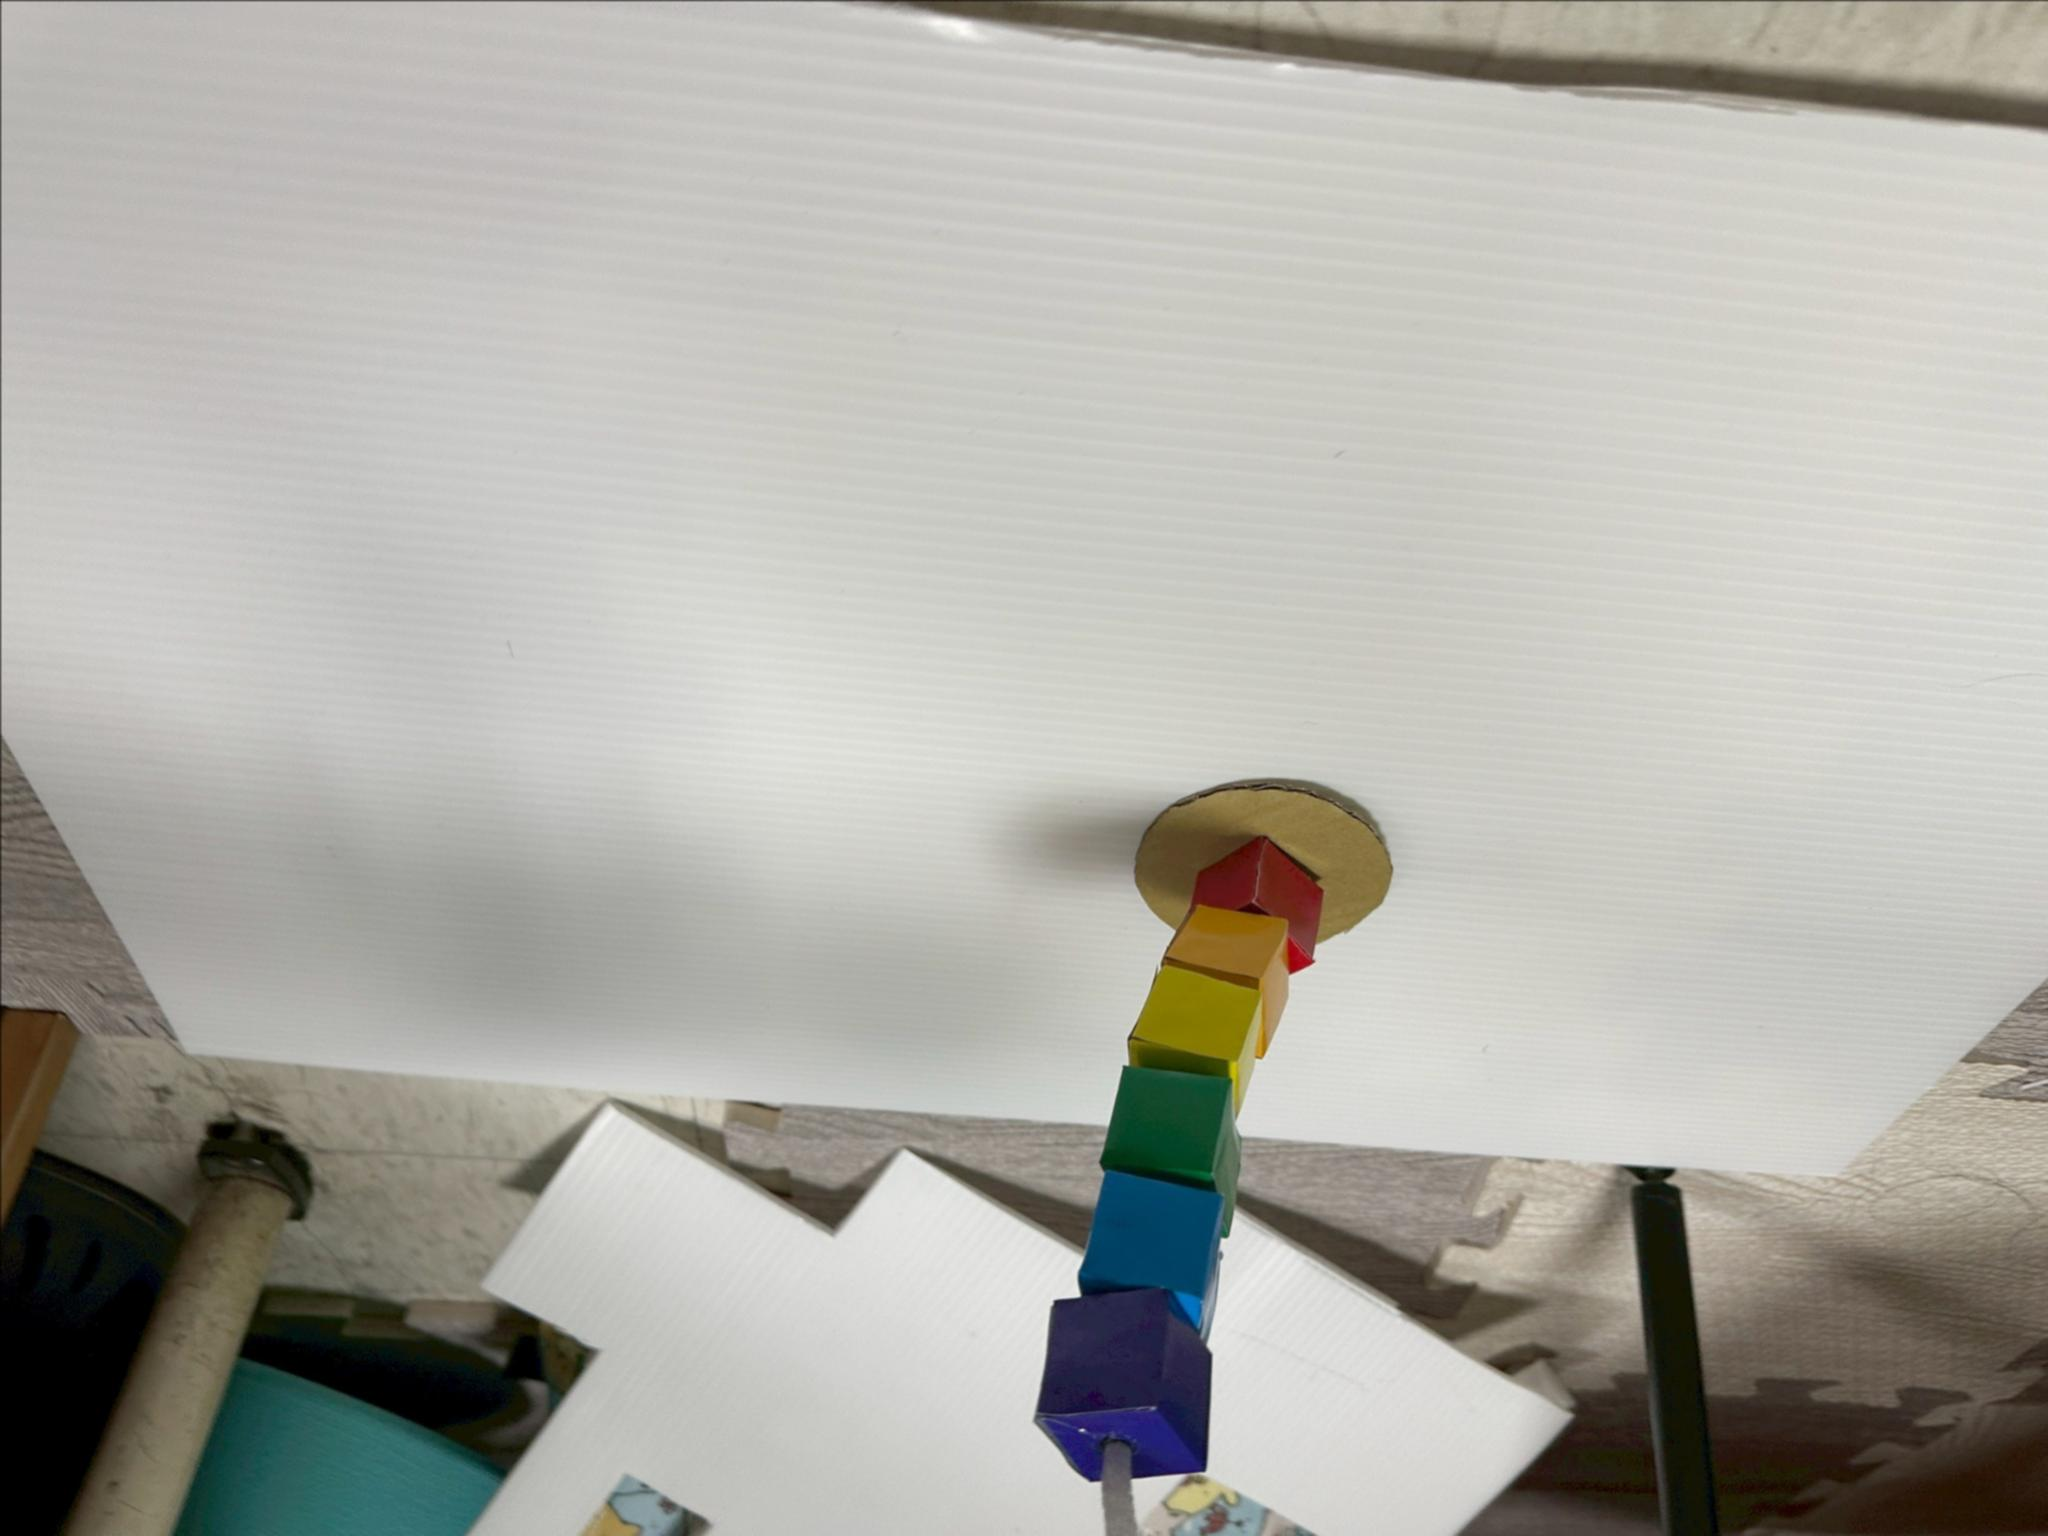base: (1134, 781, 1392, 941)
cube: (1034, 1286, 1209, 1476), (1077, 1168, 1227, 1342), (1100, 1065, 1238, 1238), (1127, 963, 1258, 1113), (1163, 905, 1287, 1054), (1190, 836, 1322, 970)
